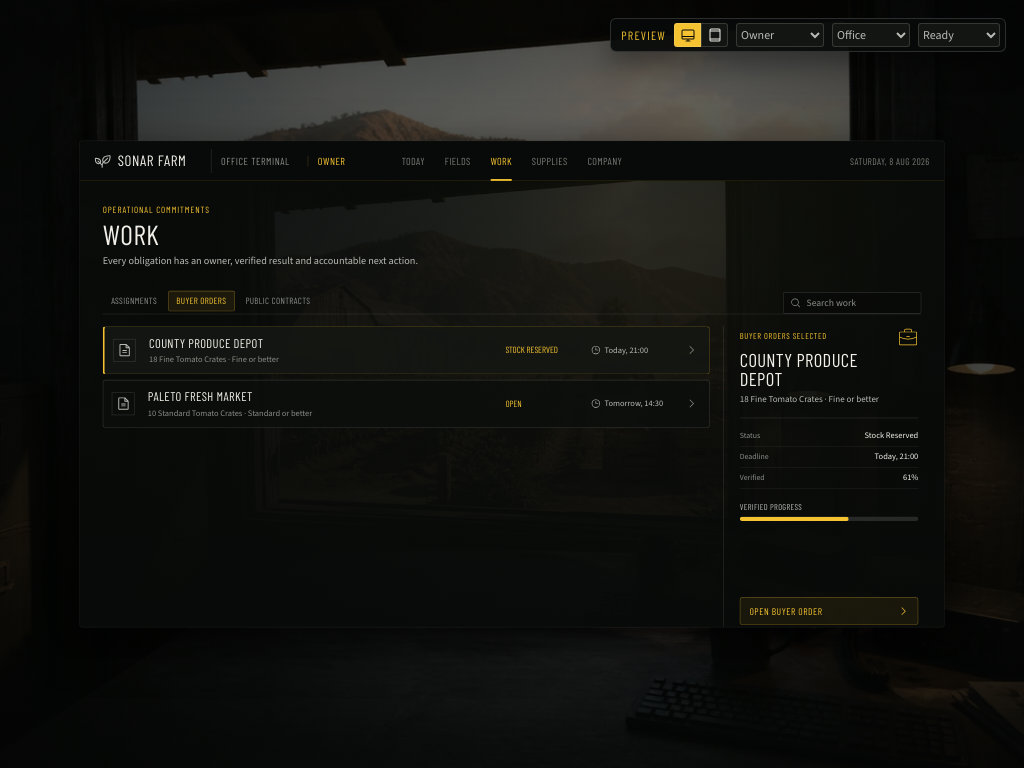
Test: Farm Business Hub › opens a real Buyer Order Detail from Work
The width and height of the screenshot is (1024, 768).
Click the button "Open Buyer Order" at (829, 611), box [740,597,918,625]
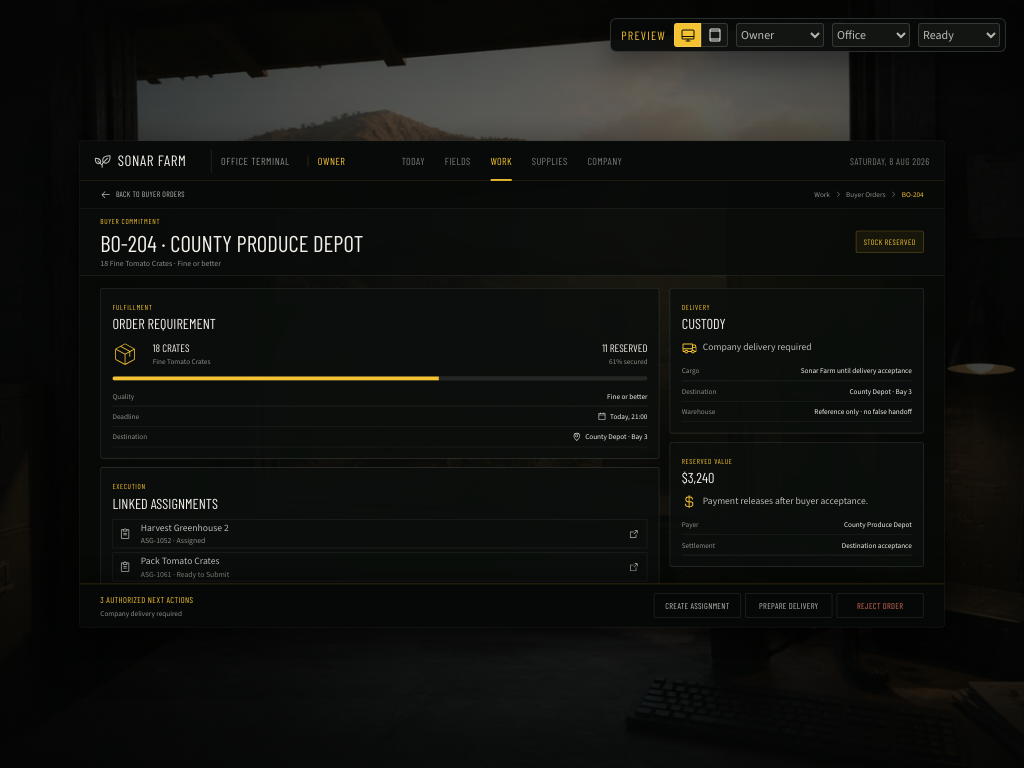
Now the heading "BO-204 · County Produce Depot" is shown, box [100,232,364,254]
Now the button "Prepare Delivery" is shown, box [745,593,832,618]
